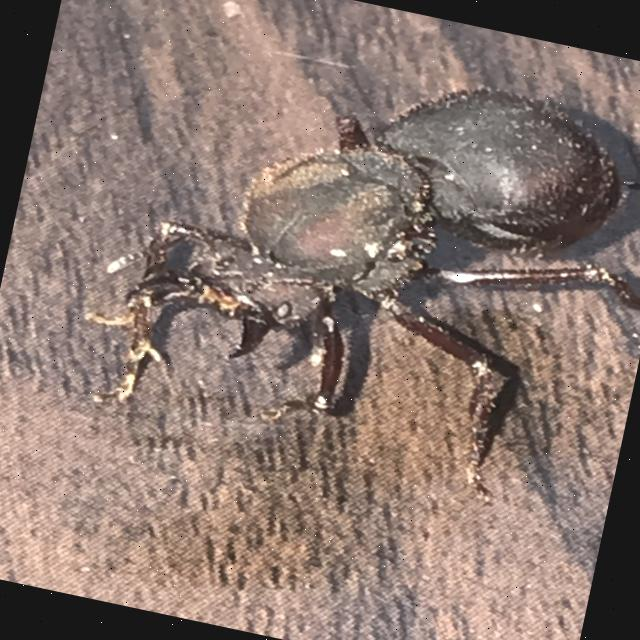Alive-Female-Dealate: (62, 13, 640, 527)
